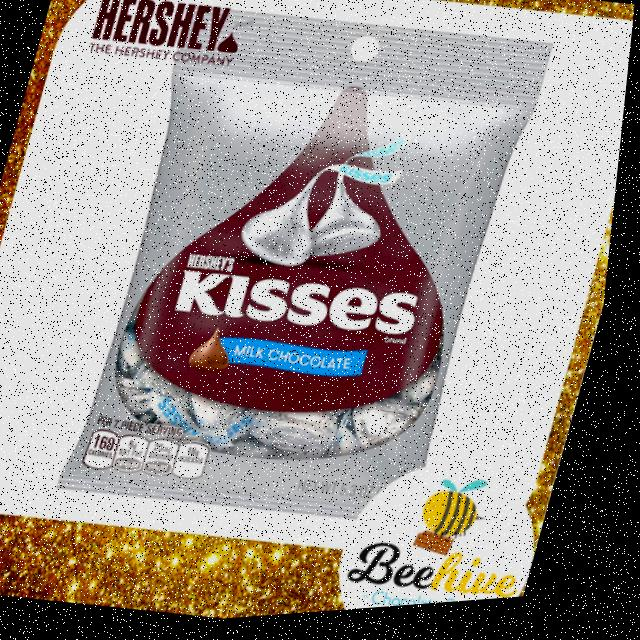kisses: (234, 154, 340, 280), (302, 156, 405, 276)
